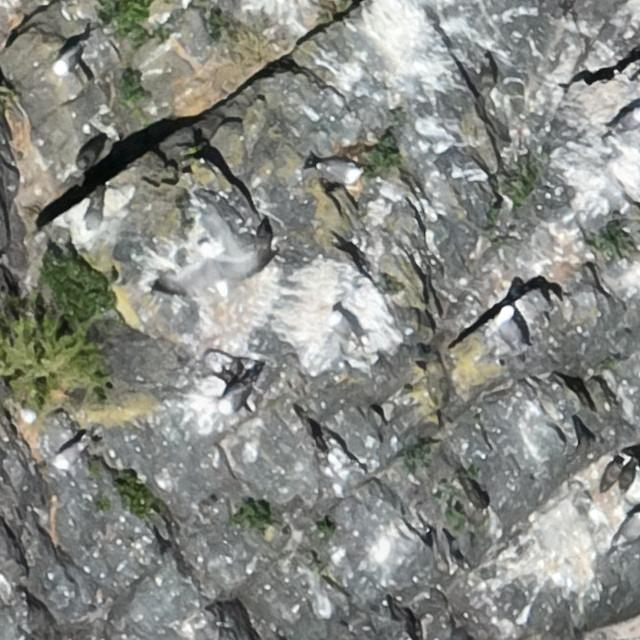F: (165, 234, 278, 297)
umineko: (326, 309, 362, 342), (220, 378, 254, 412), (53, 44, 84, 74), (322, 162, 360, 180), (56, 443, 81, 467), (615, 110, 640, 132), (498, 312, 516, 341)
